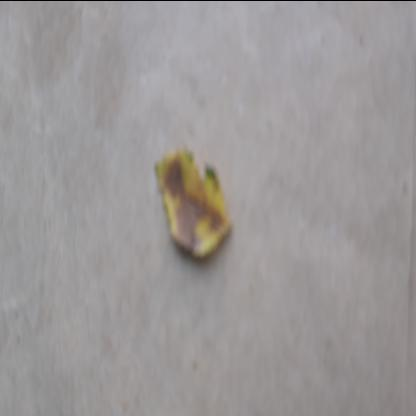black-spot: (152, 144, 236, 268)
